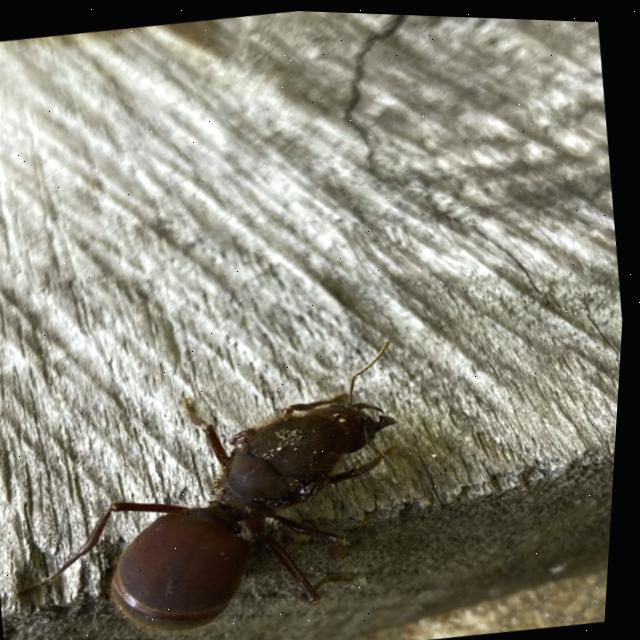Alive-Male-Alate: (0, 325, 431, 640)
